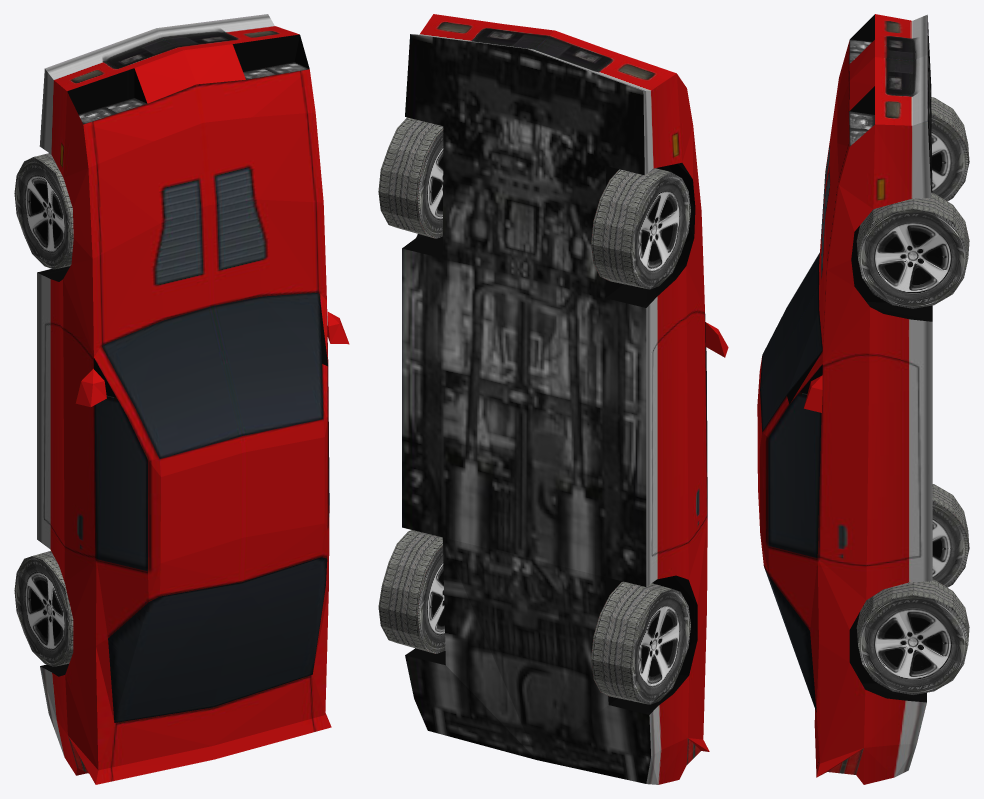
Rendered from camaro.obj.
The picture shows the model from 3 angles, left to right: view 1: azimuth 30°, elevation 25°; view 2: azimuth 150°, elevation 25°; view 3: azimuth 270°, elevation 25°; orthographic projection. The views are drawn at different scales.
Bounding box in the file's own units: 1.56 × 3.86 × 1.09.
